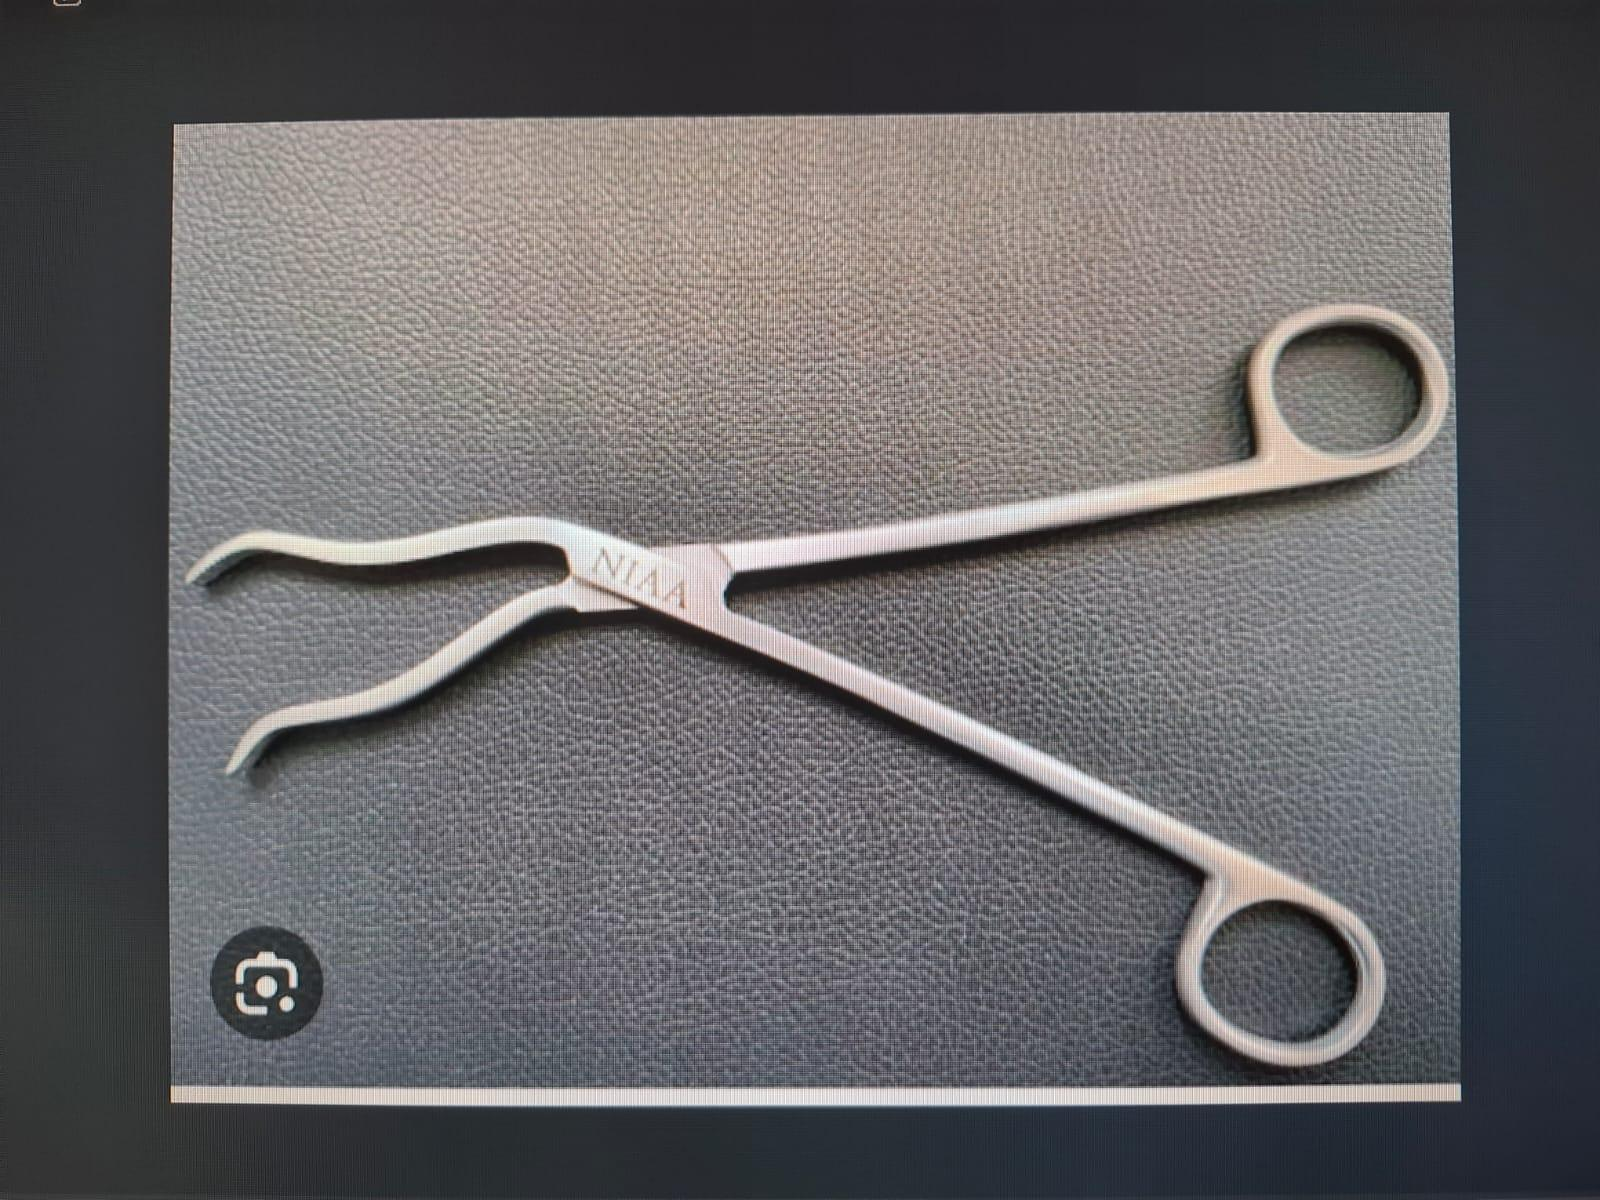Cheatle Forceps: (181, 294, 1460, 1088)
